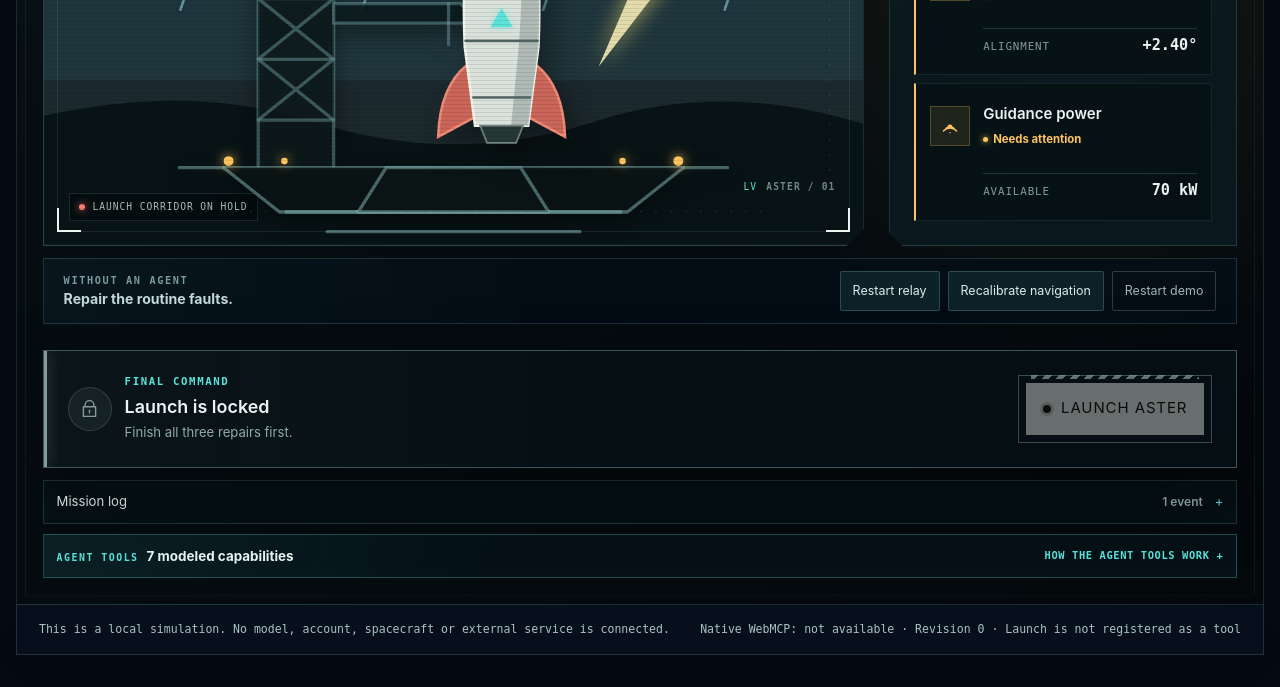
Test: Mission Control experience › leads with the human and agent sequence while keeping exact tools secondary
This screenshot has width=1280, height=687.
(page scrolled)
Expected: the text "7 modeled capabilities" is shown, [147,548,294,564]
Click the text "How the agent tools work" at (1134, 556), box [1044,549,1223,562]
(page scrolled)
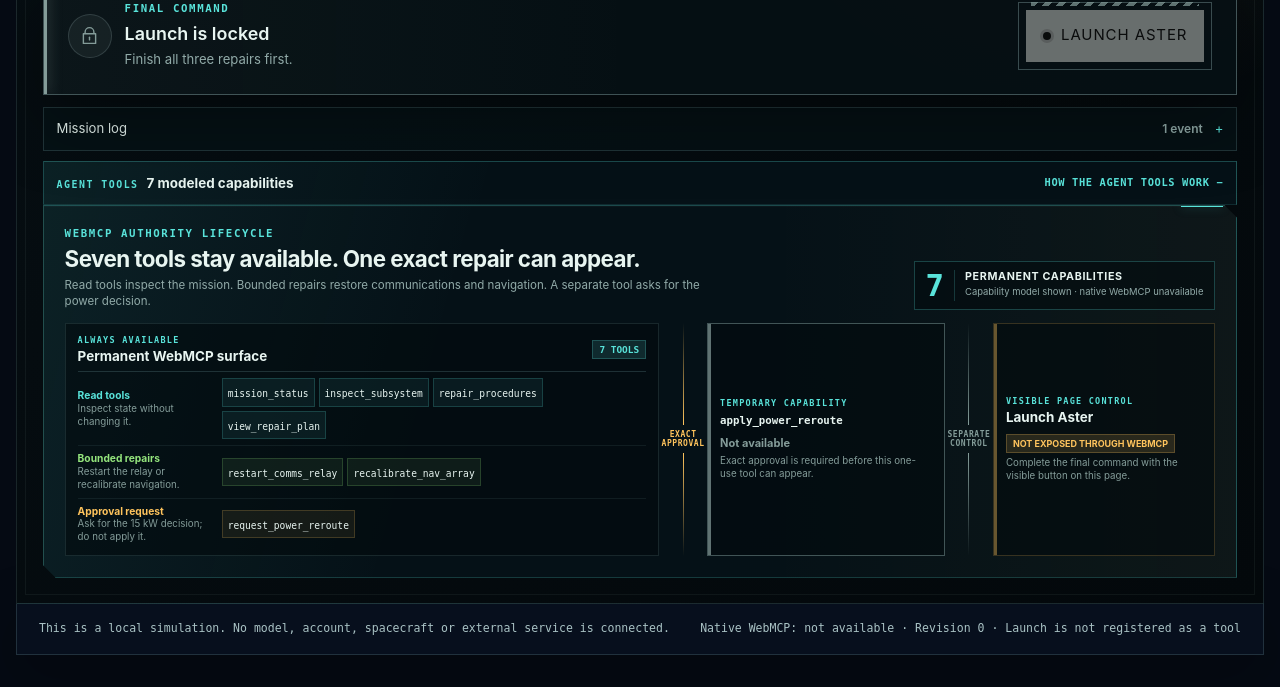
Result: the heading "Permanent WebMCP surface" is shown at [78,348,267,364]
